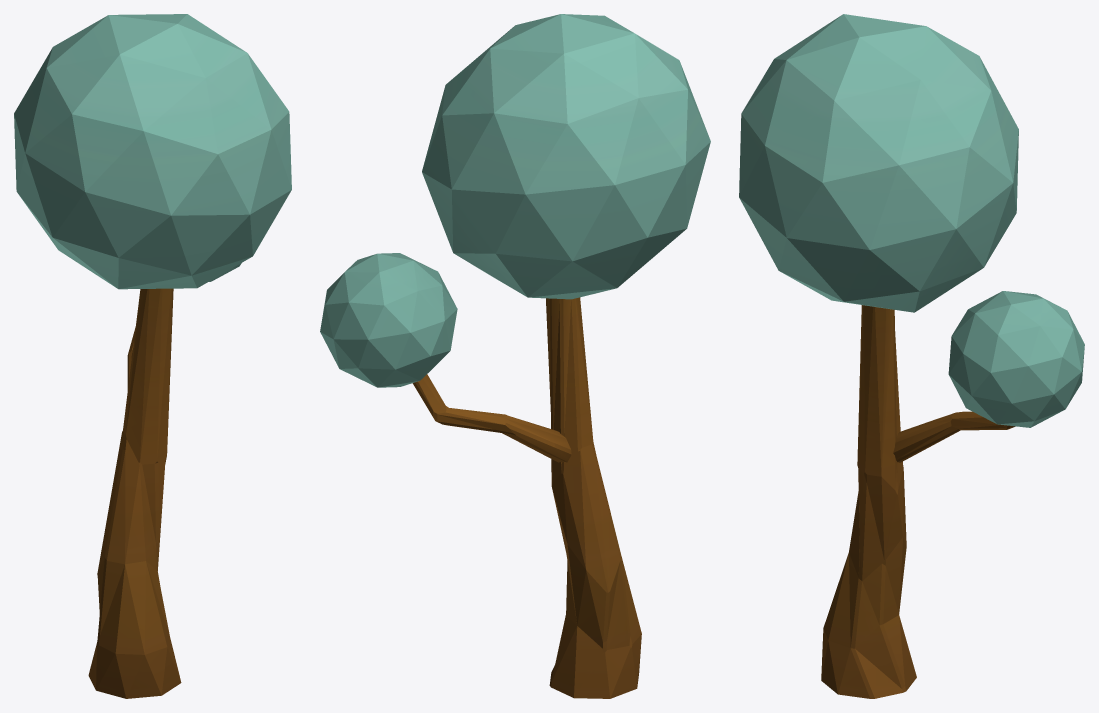
File: tree_sapling.glb
The picture shows the model from 3 angles, left to right: view 1: azimuth 30°, elevation 25°; view 2: azimuth 150°, elevation 25°; view 3: azimuth 270°, elevation 25°; orthographic projection.
Visible parts, largest first — view 1: Poplar Tree_2_AA; view 2: Poplar Tree_2_AA; view 3: Poplar Tree_2_AA.
Boxes of the visible parts, x1,y1,x2,y2 form: Poplar Tree_2_AA: [14, 14, 291, 698]; Poplar Tree_2_AA: [320, 14, 710, 698]; Poplar Tree_2_AA: [739, 14, 1084, 698].
Size of the model in its own units: 0.7433 by 1.59 by 0.7546.
Materials: 1 (1 with a texture image).
